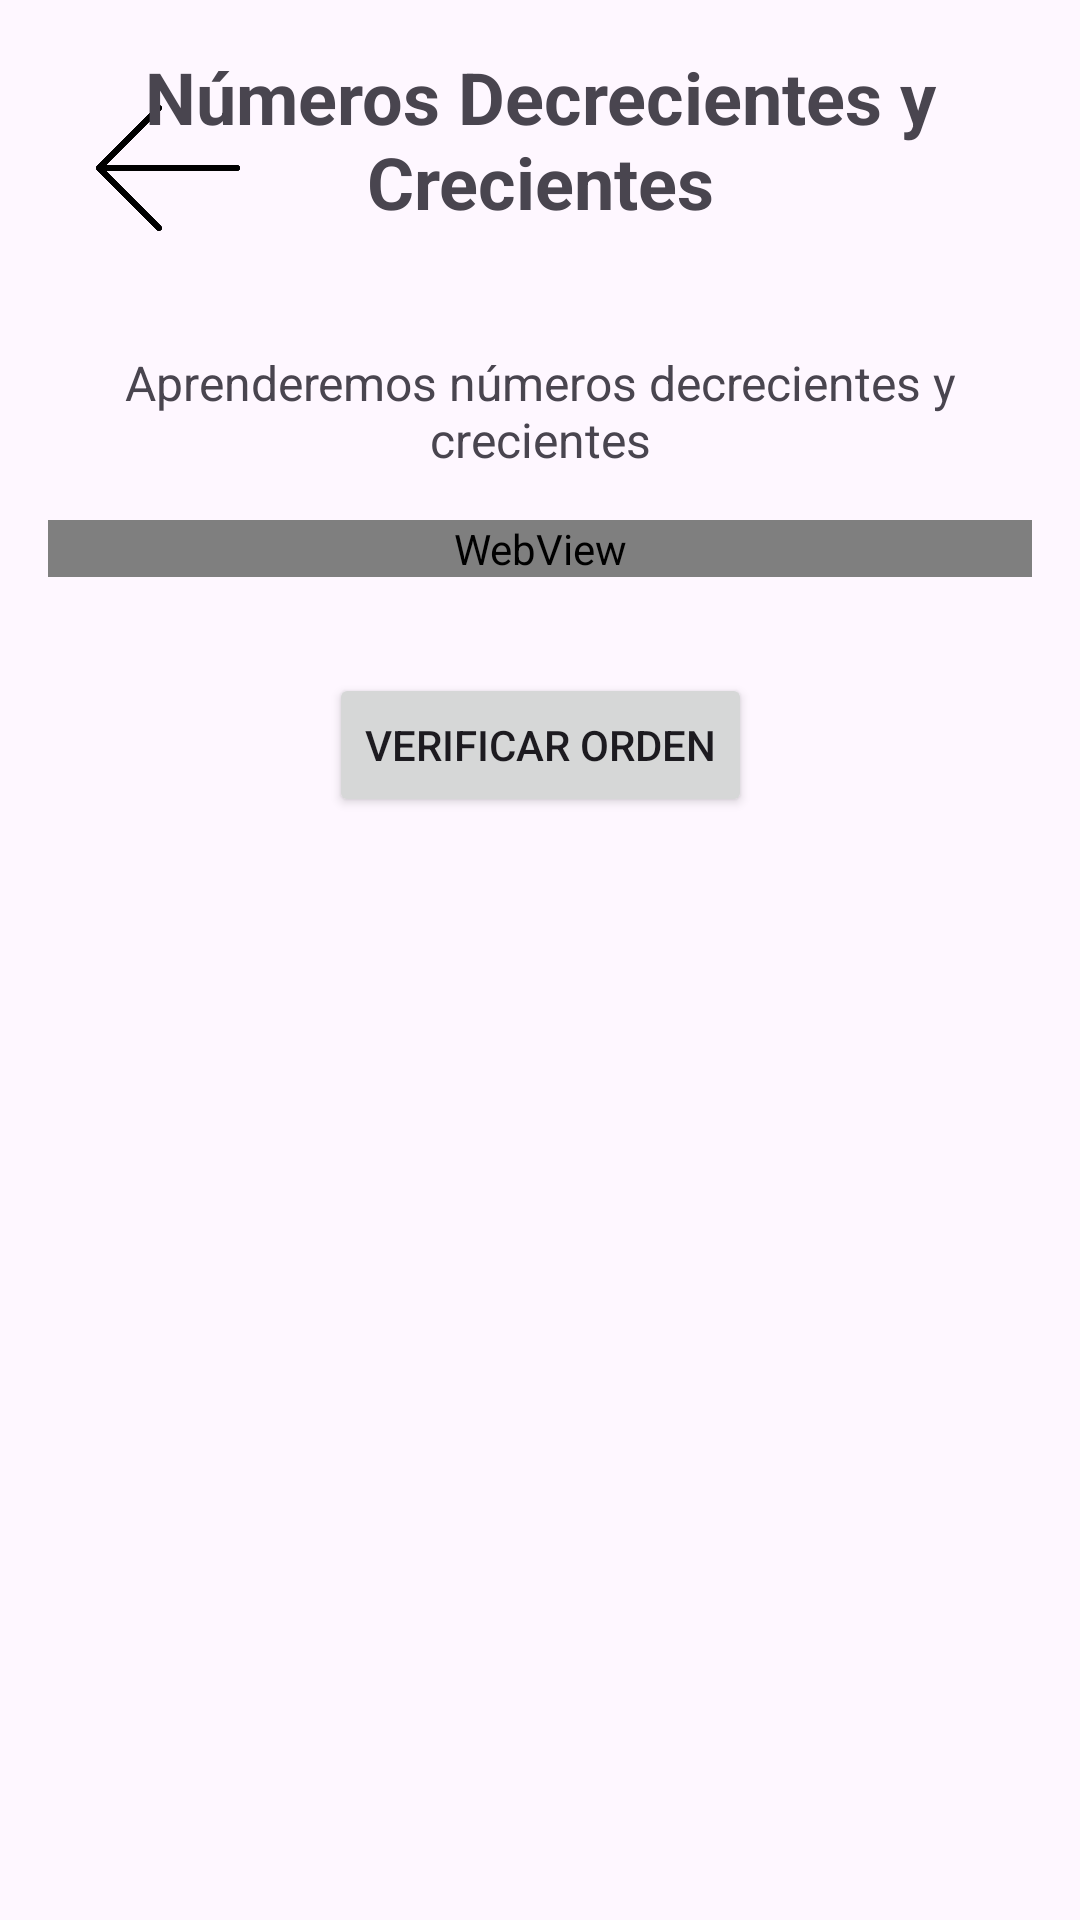

Icons on this 1080*1920 Android screen, each with its box as detection(x1, y1, x2, y2):
Botón de volver: detection(96, 96, 240, 231)
